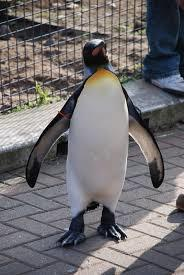king: (18, 30, 171, 240)
